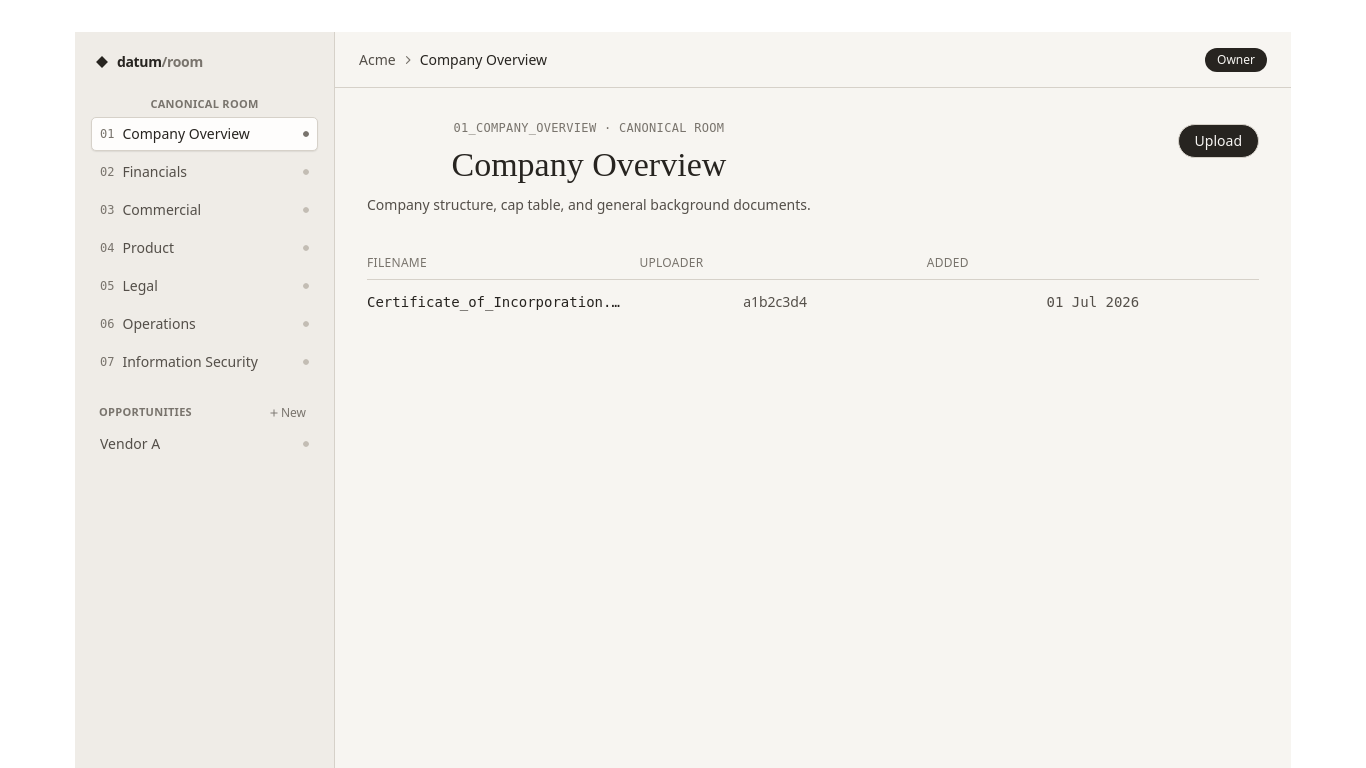
Room › with a loaded room › switches the document list when a different folder is selected
Click the text "Financials" at [155, 172], box [122,162,187,182]
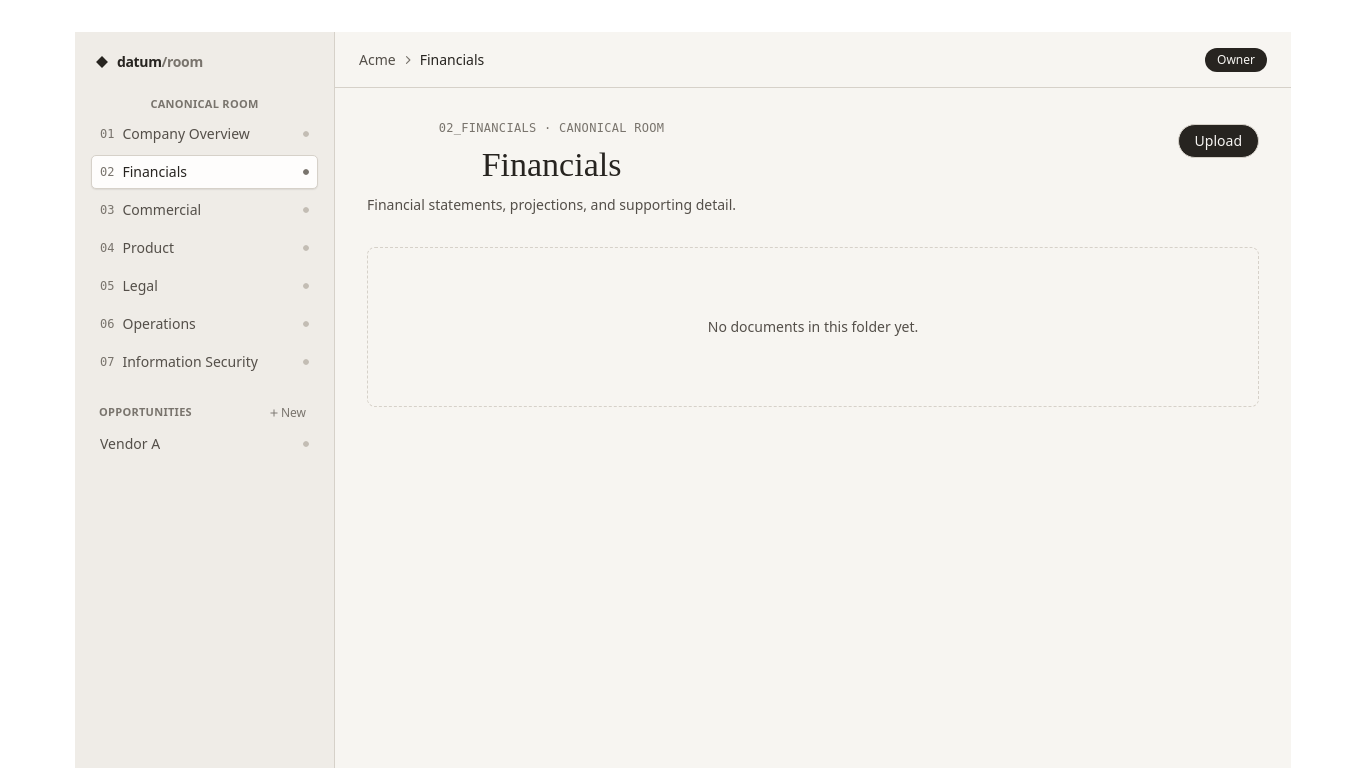
expect the text "02_FINANCIALS · CANONICAL ROOM" is shown: met, box [439,121,664,135]
expect the text "No documents in this folder yet." is shown: met, box [708,316,918,336]
expect the button "Certificate_of_Incorporation.pdf" is gone: met
